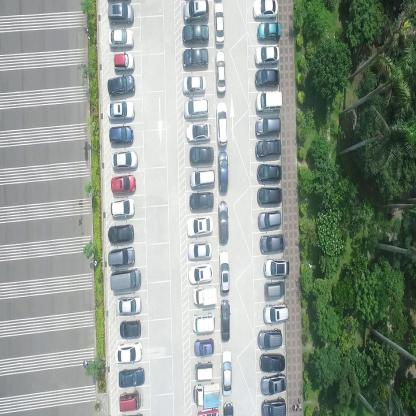car: (192, 381, 221, 409), (110, 267, 141, 291), (183, 0, 210, 25), (107, 74, 135, 98), (262, 302, 288, 327), (114, 342, 142, 365), (186, 216, 214, 239), (255, 92, 283, 115), (107, 246, 135, 268), (108, 3, 134, 26), (110, 174, 136, 197), (187, 264, 213, 287), (255, 117, 281, 140), (256, 328, 282, 351), (260, 373, 286, 396), (111, 150, 138, 172), (182, 48, 209, 70), (185, 122, 212, 144), (255, 139, 282, 161), (117, 367, 144, 389), (183, 99, 209, 121), (186, 241, 212, 263), (253, 0, 279, 22), (263, 258, 289, 280), (107, 224, 134, 245), (216, 102, 228, 149), (107, 101, 135, 121), (182, 25, 210, 45), (192, 286, 216, 309), (191, 312, 215, 335), (215, 50, 227, 96), (118, 389, 141, 413), (182, 75, 207, 97), (221, 347, 232, 397), (108, 28, 134, 49), (189, 169, 215, 190), (254, 46, 280, 67), (260, 235, 286, 256), (217, 201, 229, 246), (218, 251, 230, 296), (256, 164, 283, 184), (110, 198, 135, 219), (259, 353, 284, 374), (188, 146, 214, 166), (188, 192, 214, 212), (254, 70, 280, 90), (257, 22, 281, 43), (257, 211, 281, 232), (116, 296, 141, 316), (214, 3, 225, 47), (118, 319, 141, 340), (109, 126, 133, 146), (261, 396, 286, 415), (257, 188, 283, 206), (113, 53, 135, 73), (193, 360, 213, 382), (218, 152, 228, 195), (220, 299, 230, 342), (264, 282, 285, 302), (193, 336, 214, 356)
